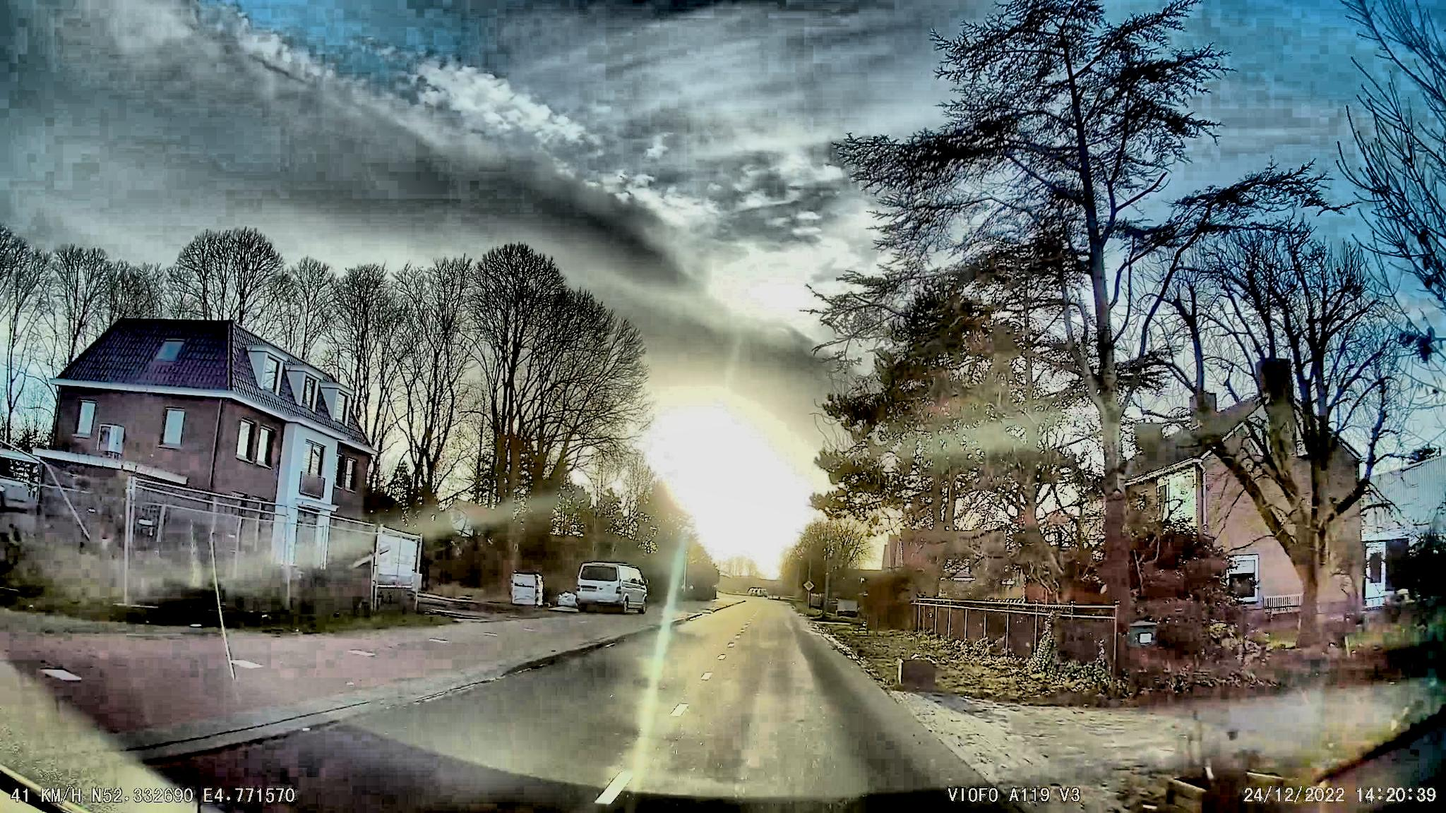Roads: (149, 596, 1431, 813)
